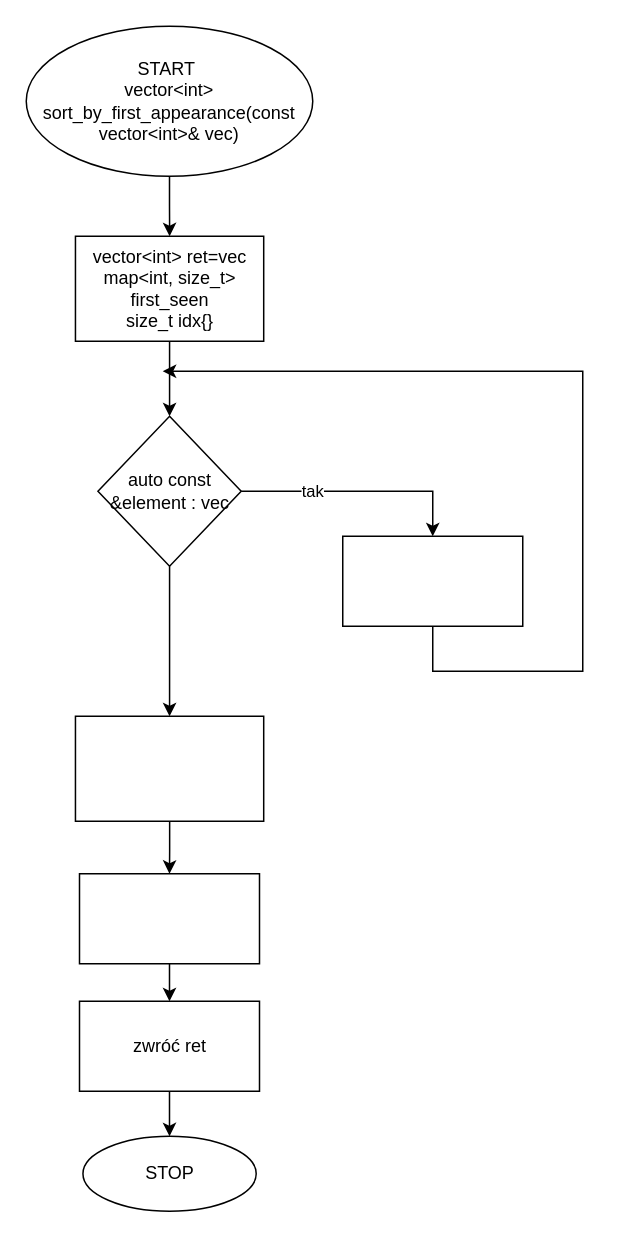
This 621x1238 diagram has some shape labels left out. Each missing label, with the centre of its shape:
first.seen.insert(): (x=432, y=580)
sort(begin(ret), end(ret), [&](auto const& l, auto const& r): (x=169, y=768)
zwróć first_seen[l]<first_seen[r]: (x=169, y=918)
